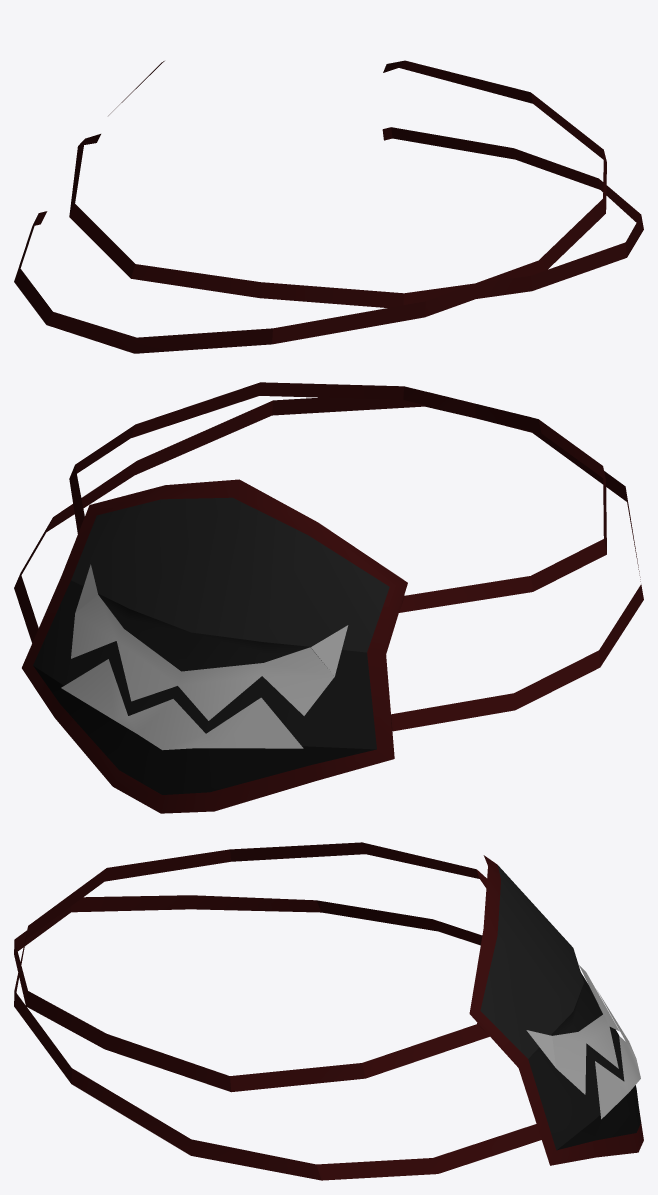
The model's file is hat_surgicalSmile.glb.
3 views of the same model, one above another, from view 1: azimuth 30°, elevation 25°; view 2: azimuth 150°, elevation 25°; view 3: azimuth 270°, elevation 25° (orthographic).
Visible parts, largest first — view 1: hat_surgicalSmile; view 2: hat_surgicalSmile; view 3: hat_surgicalSmile.
Boxes of the visible parts, box(x1,y1,x2,y2) form: hat_surgicalSmile: box(14, 60, 643, 353); hat_surgicalSmile: box(14, 382, 643, 813); hat_surgicalSmile: box(14, 842, 643, 1180).
Bounding box in the file's own units: 0.4263 × 0.2034 × 0.4234.
